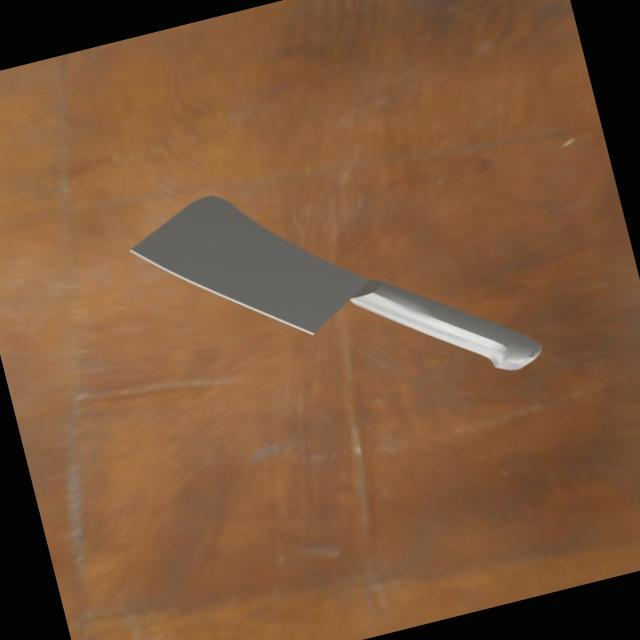knife: (346, 240, 554, 408)
